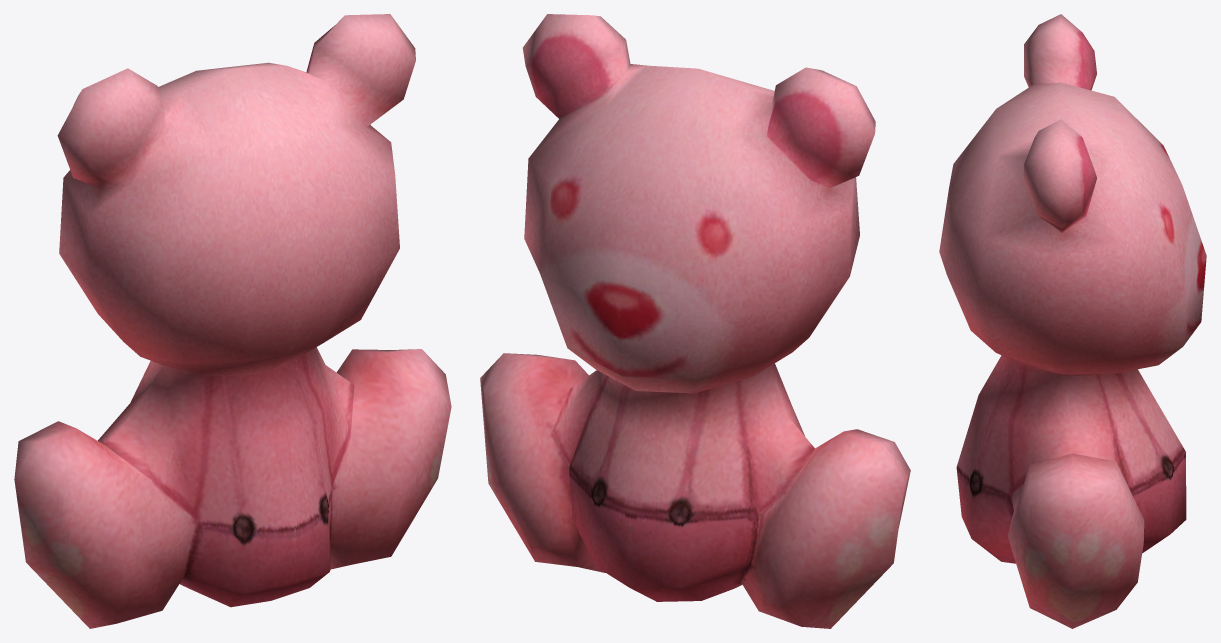
The model's file is furni_0200146.FBX.
3 views of the same model, side by side, from view 1: azimuth 30°, elevation 25°; view 2: azimuth 150°, elevation 25°; view 3: azimuth 270°, elevation 25° (orthographic). The views are drawn at different scales.
Visible parts, largest first — view 1: furni_0200146; view 2: furni_0200146; view 3: furni_0200146.
Part boxes in pixels (box(x1,y1,x2,y2)): furni_0200146: box(14, 14, 451, 628); furni_0200146: box(480, 14, 910, 628); furni_0200146: box(939, 14, 1206, 628).
Size of the model in its own units: 46.51 by 57.44 by 28.07.
1 material, 1 textured.
